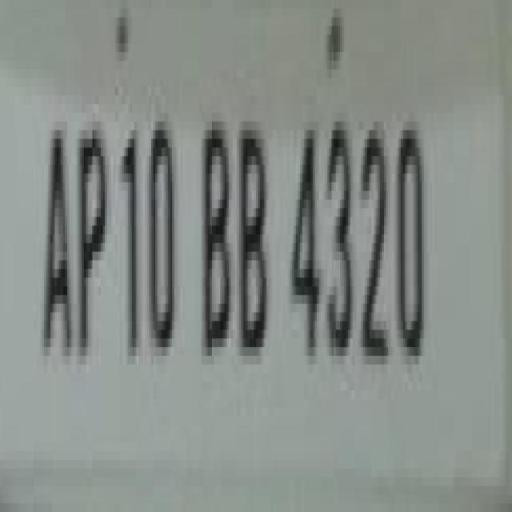number plate: (1, 26, 490, 504)
